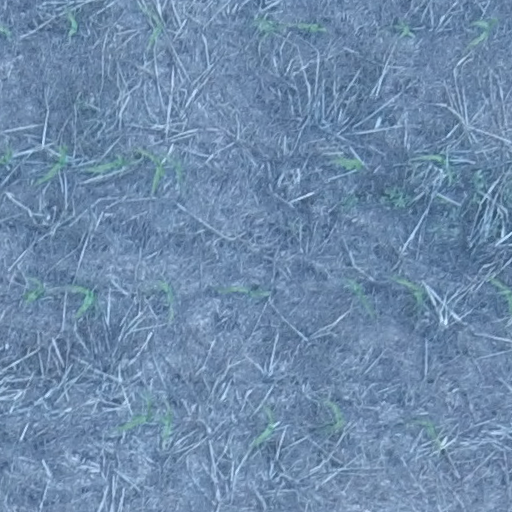planta: (132, 145, 184, 194), (114, 392, 156, 434), (34, 142, 70, 186), (417, 151, 455, 188), (345, 276, 376, 317), (250, 404, 278, 449), (390, 273, 427, 307), (67, 281, 99, 320), (412, 417, 445, 453), (466, 16, 500, 50), (83, 152, 129, 177), (142, 5, 165, 47), (322, 398, 347, 435), (252, 14, 290, 38), (216, 283, 271, 299), (20, 276, 47, 307), (156, 405, 175, 443), (330, 154, 366, 173), (155, 277, 175, 306), (62, 7, 80, 38), (293, 20, 327, 35), (394, 19, 414, 39), (471, 170, 486, 190)
